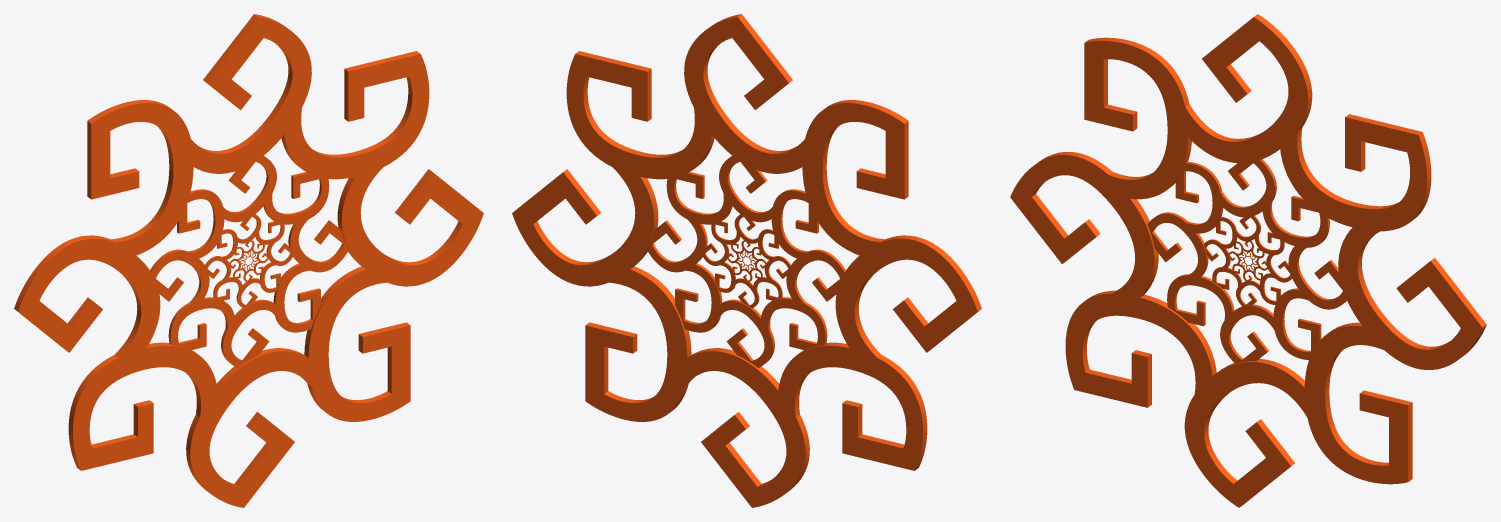
The model's file is symbol_mandala_G.fbx.
3 renders of one model, left to right at view 1: azimuth 30°, elevation 25°; view 2: azimuth 150°, elevation 25°; view 3: azimuth 330°, elevation 25°, orthographic.
Visible parts, largest first — view 1: Text45438; view 2: Text45438; view 3: Text45438.
Boxes of the visible parts, x1,y1,x2,y2 form: Text45438: (14,14,483,507); Text45438: (512,14,981,507); Text45438: (1010,14,1486,507).
Size of the model in its own units: 7760 by 7760 by 121.
